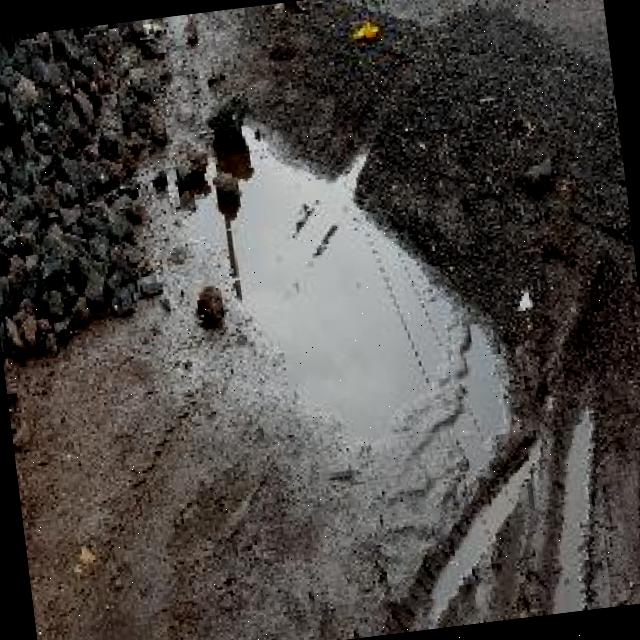stagnation: (97, 83, 573, 544)
